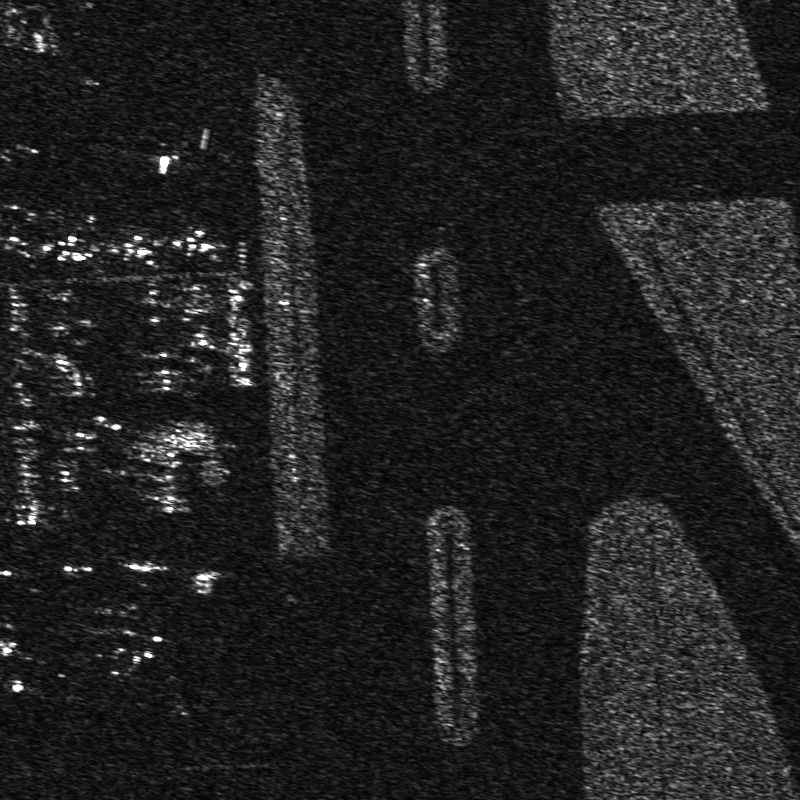ARJ21: (42, 231, 100, 264)
Boeing737: (96, 609, 171, 673)
other: (107, 226, 163, 268), (171, 225, 228, 265)
